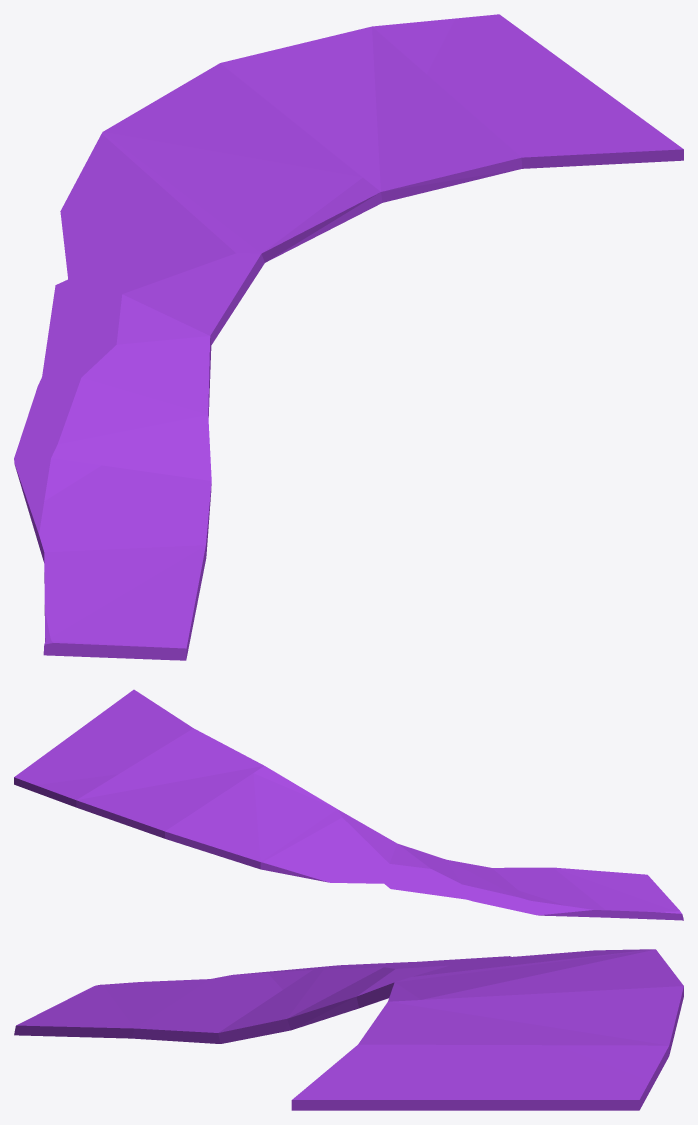
Rendered from Glass_101_2_chunks.fbx.
The picture shows the model from 3 angles, top to bottom: view 1: azimuth 30°, elevation 25°; view 2: azimuth 150°, elevation 25°; view 3: azimuth 270°, elevation 25°; orthographic projection. The views are drawn at different scales.
Visible parts, largest first — view 1: Glass_101_2_1, Glass_101_2_7, Glass_101_2_3, Glass_101_2_8, Glass_101_2_0, Glass_101_2_9, Glass_101_2_6, Glass_101_2_4; view 2: Glass_101_2_3, Glass_101_2_8, Glass_101_2_7, Glass_101_2_1, Glass_101_2_9, Glass_101_2_0, Glass_101_2_6, Glass_101_2_4; view 3: Glass_101_2_3, Glass_101_2_1, Glass_101_2_8, Glass_101_2_9, Glass_101_2_7, Glass_101_2_0, Glass_101_2_6, Glass_101_2_4, Glass_101_2_2.
Boxes of the visible parts, x1,y1,x2,y2 form: Glass_101_2_1: (32,394,211,660); Glass_101_2_7: (47,135,244,389); Glass_101_2_3: (367,14,683,180); Glass_101_2_8: (101,18,455,166); Glass_101_2_0: (14,340,187,529); Glass_101_2_9: (196,89,416,212); Glass_101_2_6: (195,180,360,378); Glass_101_2_4: (318,162,502,234); Glass_101_2_3: (14,689,243,794); Glass_101_2_8: (35,774,274,870); Glass_101_2_7: (263,814,446,895); Glass_101_2_1: (440,859,683,920); Glass_101_2_9: (139,773,304,830); Glass_101_2_0: (436,860,583,916); Glass_101_2_6: (256,774,425,854); Glass_101_2_4: (203,733,292,782); Glass_101_2_3: (291,1003,652,1110); Glass_101_2_1: (14,972,315,1043); Glass_101_2_8: (536,949,683,1085); Glass_101_2_9: (420,968,559,1038); Glass_101_2_7: (320,949,650,1004); Glass_101_2_0: (262,959,451,1006); Glass_101_2_6: (326,976,456,1011); Glass_101_2_4: (362,994,430,1038); Glass_101_2_2: (284,1004,349,1031).
Bounding box in the file's own units: 3070 × 998 × 2544.
